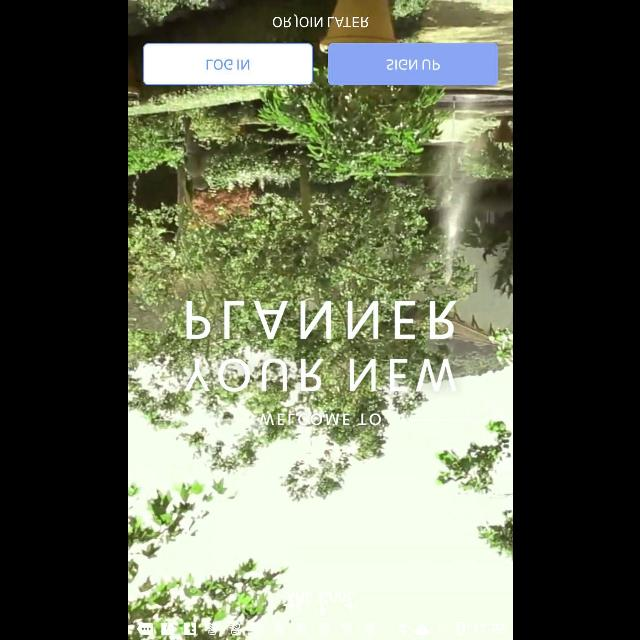backgroundimage: (128, 1, 512, 622)
text: (184, 300, 456, 392), (258, 413, 380, 425), (272, 15, 368, 28)
textbutton: (328, 43, 498, 85), (142, 43, 312, 85)
uppertaskbar: (128, 621, 512, 639)
